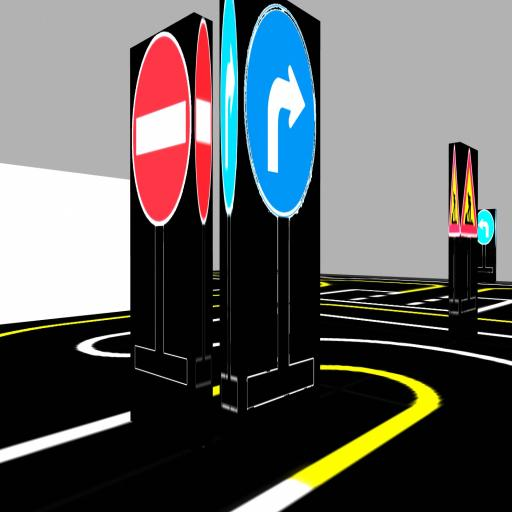Do Not Enter: (131, 31, 191, 226), (194, 18, 212, 224)
Right Turn: (244, 6, 315, 217), (220, 0, 238, 216)
